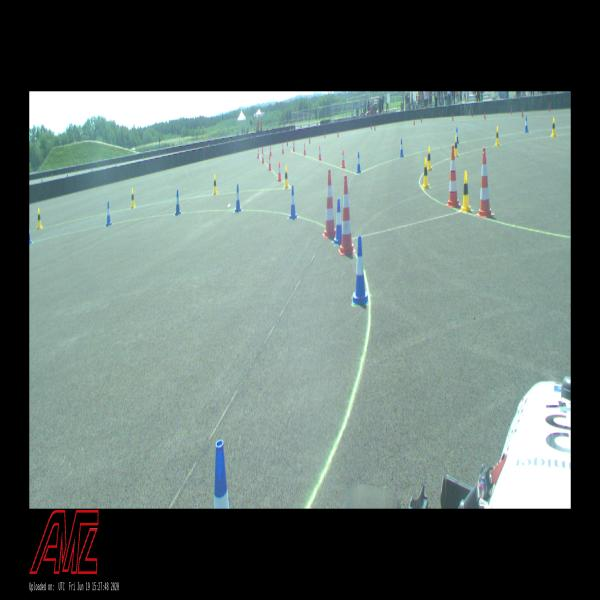blue_cone: (352, 236, 368, 304), (214, 439, 228, 507), (333, 197, 342, 246), (289, 186, 297, 220), (235, 184, 241, 213), (174, 190, 180, 215), (106, 202, 112, 226), (400, 139, 404, 158), (524, 115, 528, 133), (357, 151, 360, 174), (29, 225, 32, 244), (456, 127, 459, 144)
large_orange_cone: (476, 148, 494, 219), (339, 176, 355, 254), (445, 145, 462, 208), (323, 169, 336, 240)
orange_cone: (341, 150, 346, 168), (278, 161, 282, 181), (268, 158, 272, 170), (318, 145, 321, 160), (303, 144, 306, 155), (269, 146, 272, 157), (292, 141, 295, 152), (262, 150, 264, 163), (282, 142, 284, 155), (257, 148, 259, 159)
yellow_cone: (460, 172, 471, 213), (422, 158, 429, 188), (36, 208, 42, 229), (284, 166, 290, 187), (551, 117, 556, 137), (213, 175, 218, 195), (130, 188, 135, 208), (428, 146, 432, 170), (495, 127, 500, 146), (455, 138, 458, 156)
